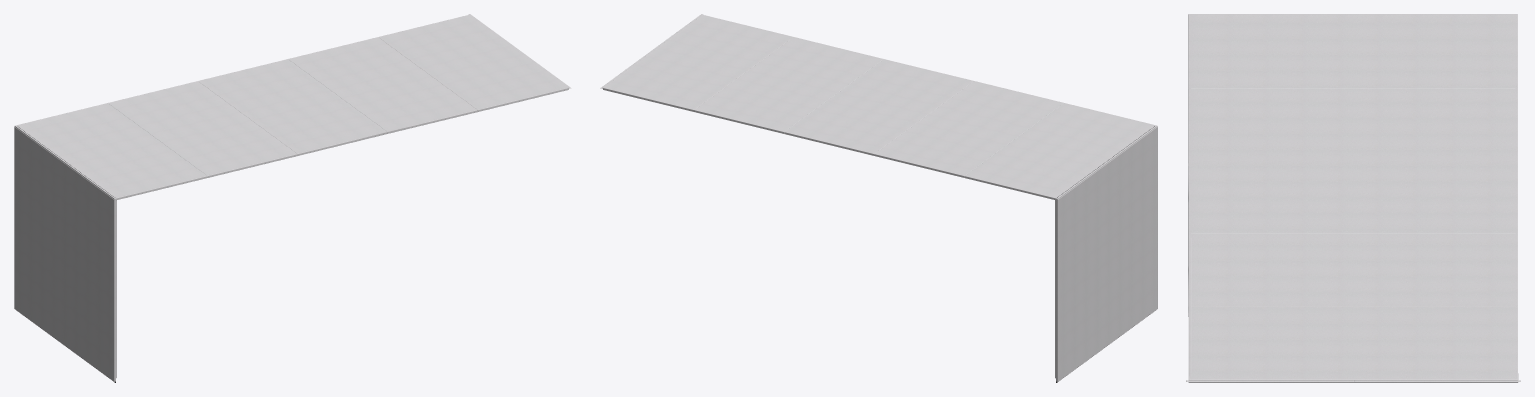
Rendered from rear-top-drywall.glb.
3 renders of one model, left to right at view 1: azimuth 30°, elevation 25°; view 2: azimuth 150°, elevation 25°; view 3: azimuth 270°, elevation 25°, orthographic. The views are drawn at different scales.
Parts seen in each view (by area): view 1: 20FT Blank_DryWall_RearTop_001; view 2: 20FT Blank_DryWall_RearTop_001; view 3: 20FT Blank_DryWall_RearTop_001.
Part boxes in pixels (x1,y1,x2,y2): 20FT Blank_DryWall_RearTop_001: (14, 14, 571, 382); 20FT Blank_DryWall_RearTop_001: (600, 14, 1157, 382); 20FT Blank_DryWall_RearTop_001: (1186, 14, 1520, 382).
Bounding box in the file's own units: 5.9 × 2.28 × 2.27.
2 materials, 1 textured.
